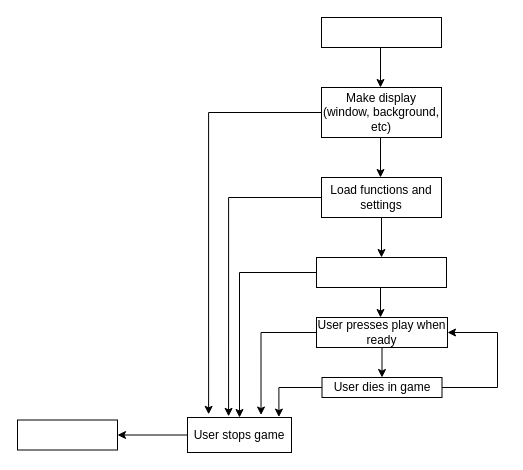
Some shapes in this 523 by 470 pixel diagram are drawn without their labels. The shapes that lost their labels are listed below. From the top down, each one's box as (x1, y1, x2, y2) in pixels, then its label:
(320, 16, 442, 48): Start program
(316, 256, 446, 288): User chooses difficulty
(16, 419, 118, 450): Program stops running
